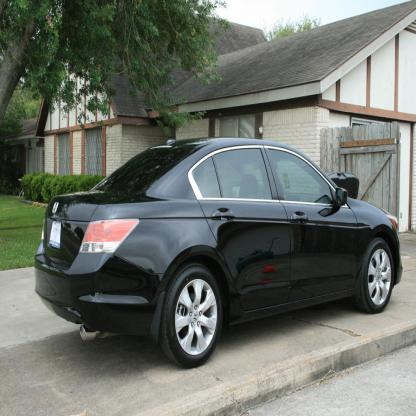Car: (33, 136, 405, 370)
